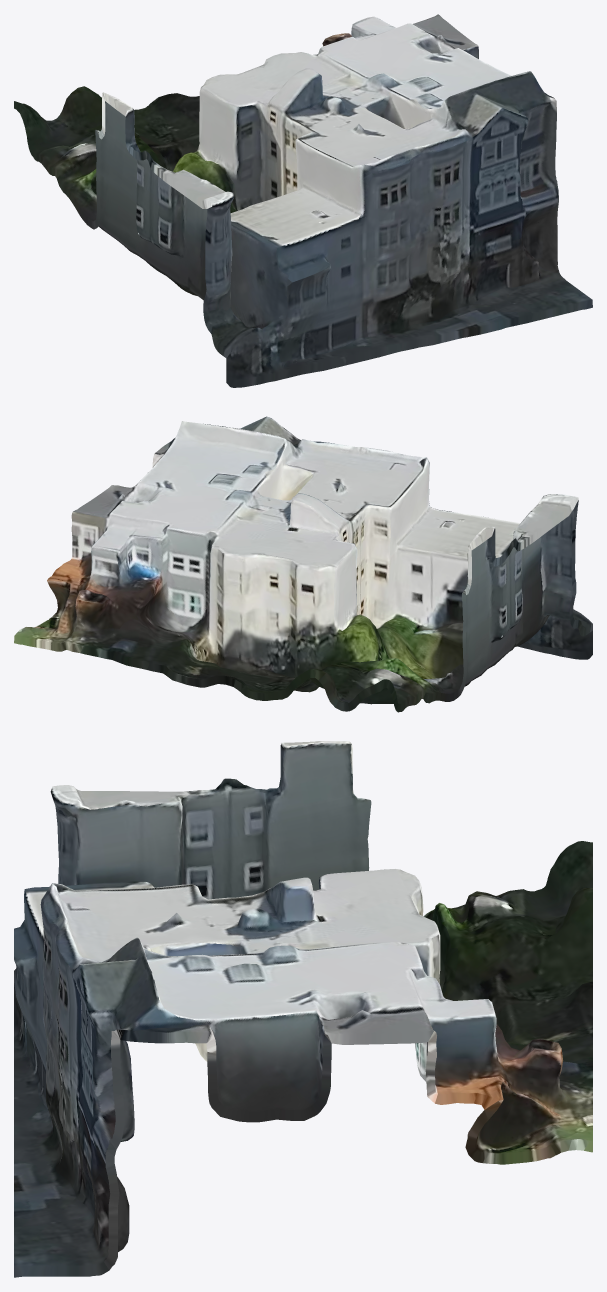
File: z20-167723-405193-h0-yup-uvflip-v3-world.glb
3 views of the same model, one above another, from view 1: azimuth 30°, elevation 25°; view 2: azimuth 150°, elevation 25°; view 3: azimuth 270°, elevation 25° (orthographic). The views are drawn at different scales.
Bounding box in the file's own units: 30.2 × 16.96 × 30.32.
1 material, 1 textured.
